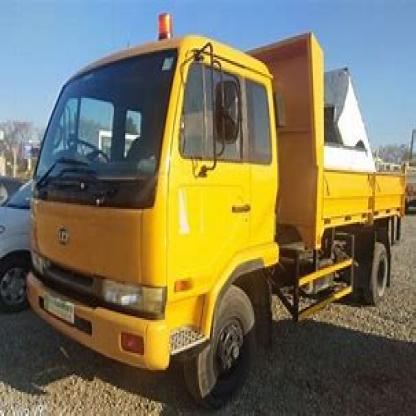dump_truck: (28, 15, 398, 401)
